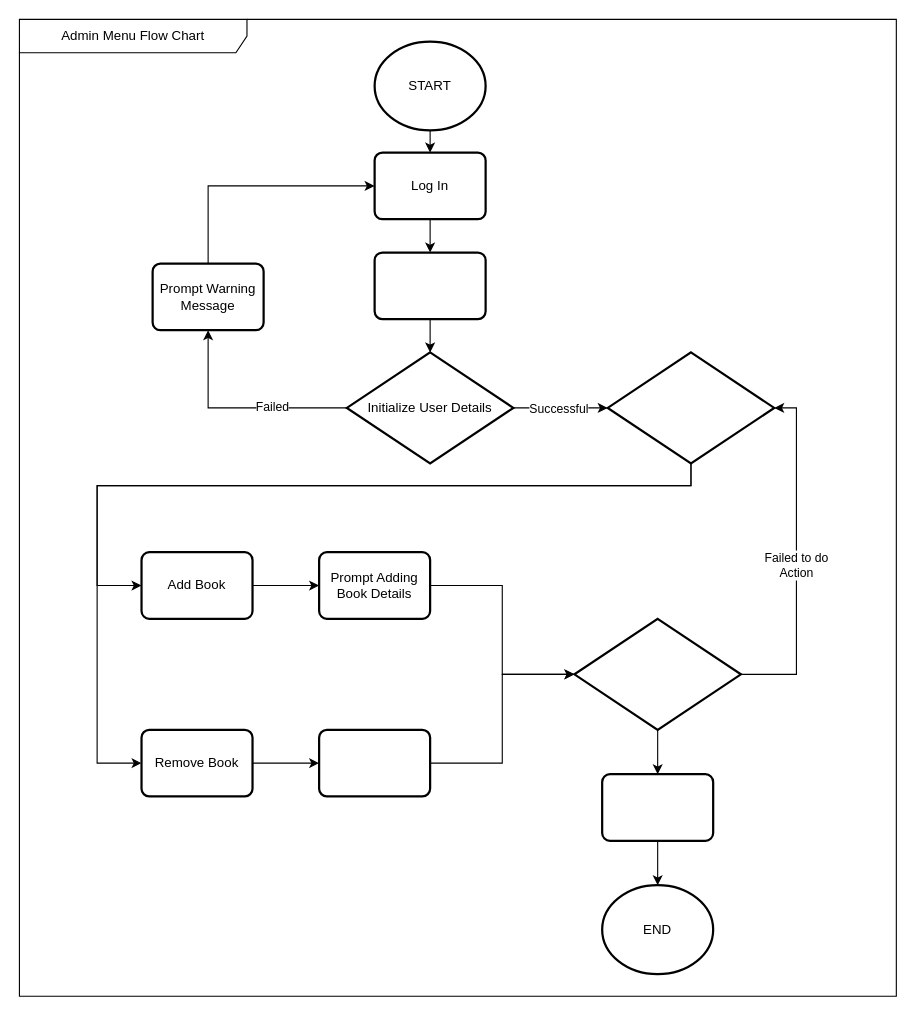
This 916x1016 diagram has some shape labels left out. The box of each missing label's shape, as (x1, y1, x2, y2) in pixels:
Display Success Message: (601, 773, 714, 841)
Initialize Admin Credentials: (373, 251, 486, 320)
Prompt Removing Book Details: (317, 728, 431, 797)
Select Action: (606, 351, 775, 464)
Success?: (573, 617, 741, 730)
